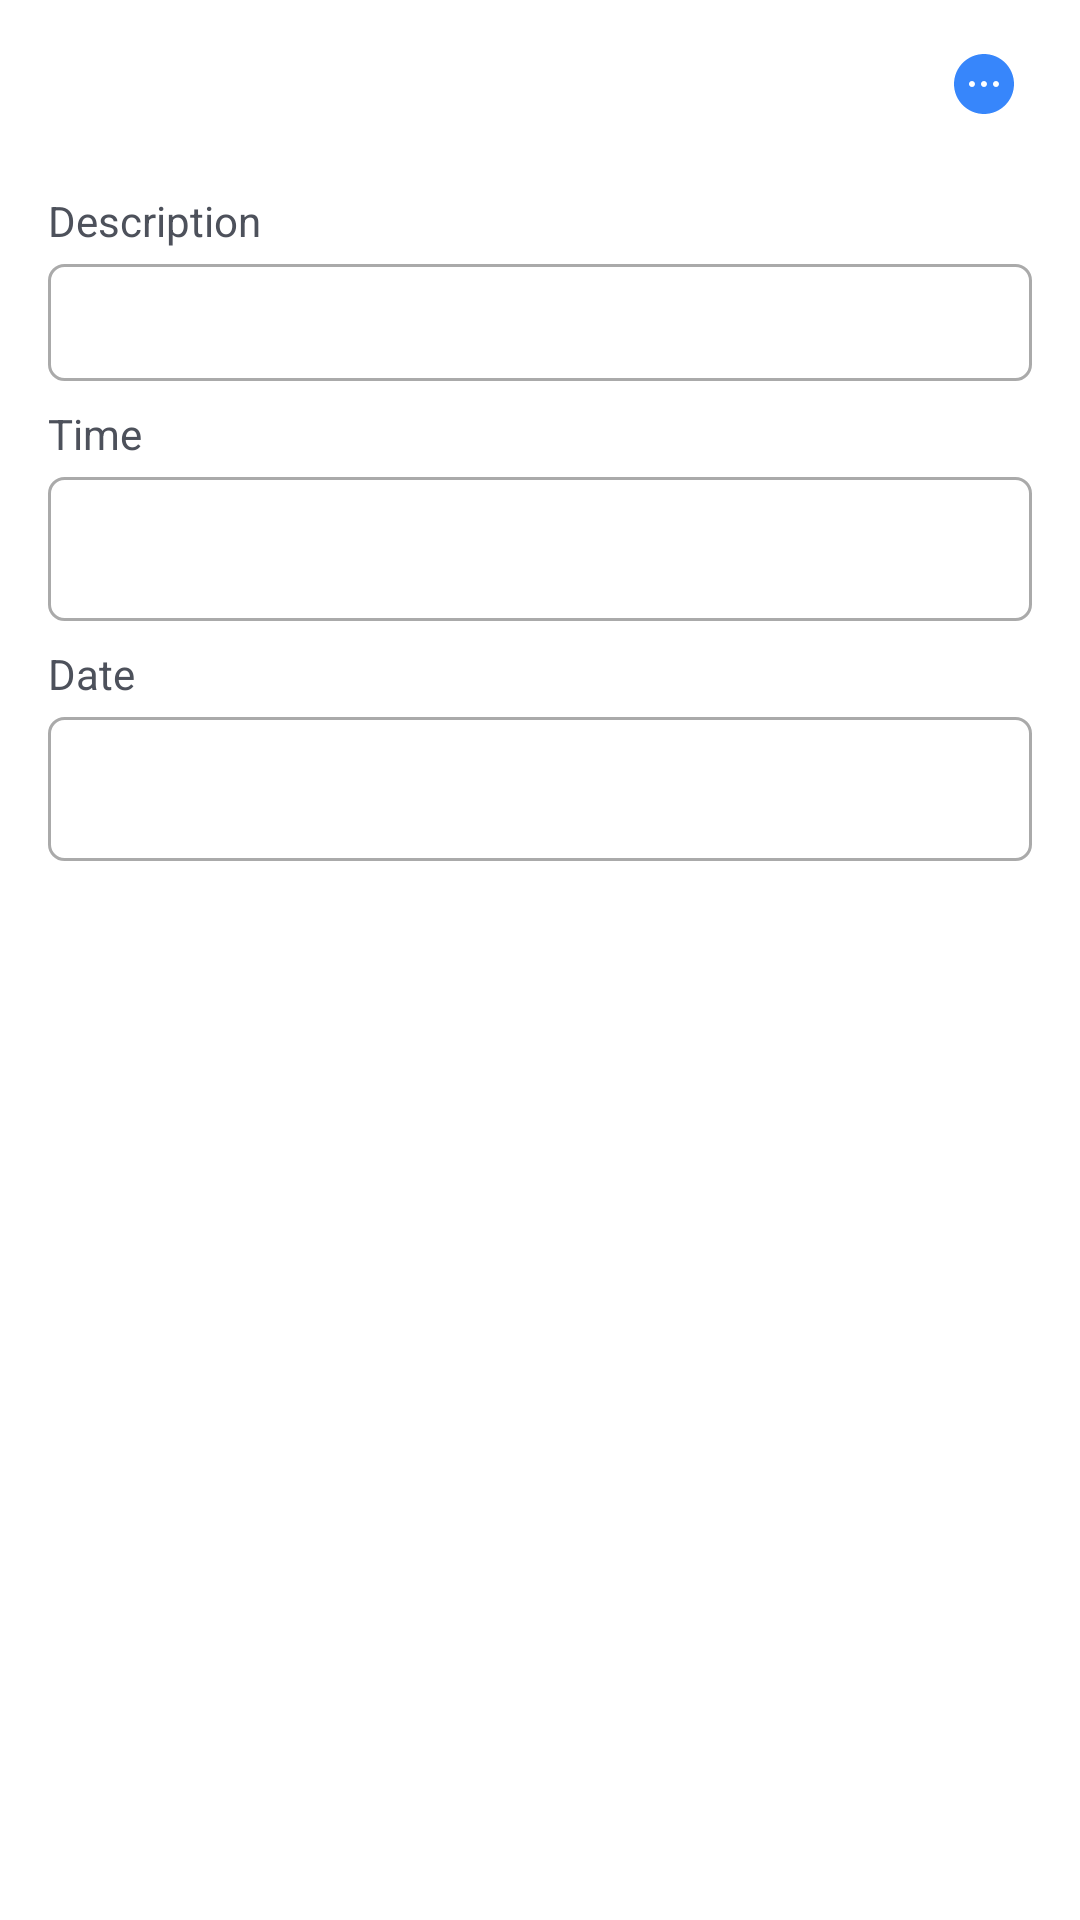

Point at icon controls on the screen. Image size 1080px x 1920px, points as point (x, y).
more circle: point (984, 84)
